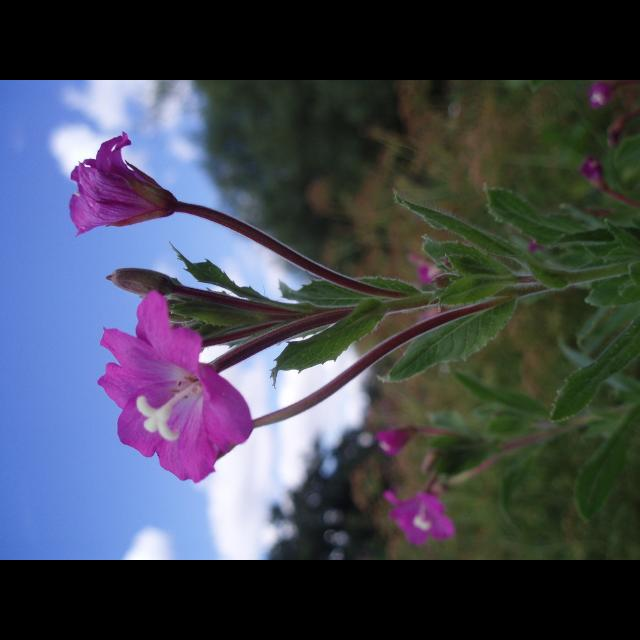Flower: (93, 274, 257, 480), (68, 128, 176, 238), (382, 487, 456, 543), (374, 429, 412, 455)
